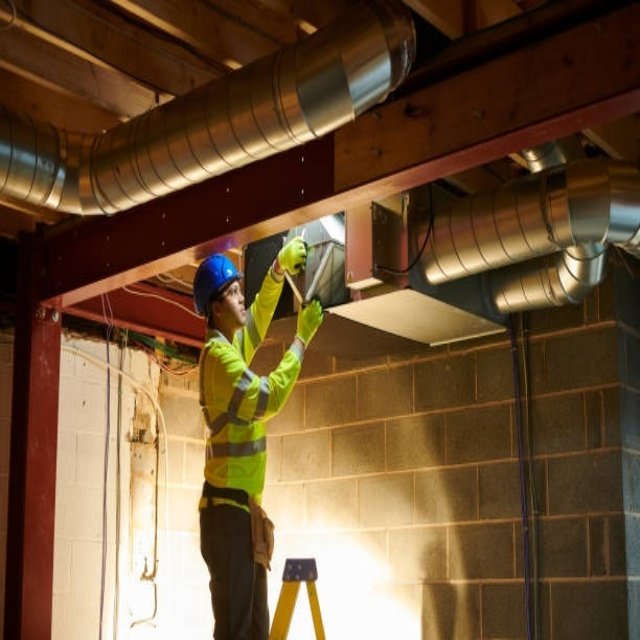Gafas: (219, 282, 244, 302)
Guantes: (295, 298, 324, 347), (278, 237, 307, 277)
Sin_mascara: (238, 306, 247, 314)
